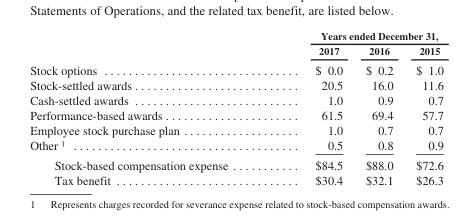table: (29, 29, 442, 186)
table column: (29, 29, 271, 186), (271, 29, 353, 186), (353, 29, 403, 186), (403, 29, 442, 186)
table column header: (29, 29, 442, 59)
table row: (29, 59, 442, 77), (29, 42, 442, 59), (29, 137, 442, 154), (29, 154, 442, 171), (29, 77, 442, 92), (29, 92, 442, 107), (29, 107, 442, 122), (29, 122, 442, 137), (29, 171, 442, 186), (29, 29, 442, 42)
table spanning cell: (271, 29, 442, 42)
